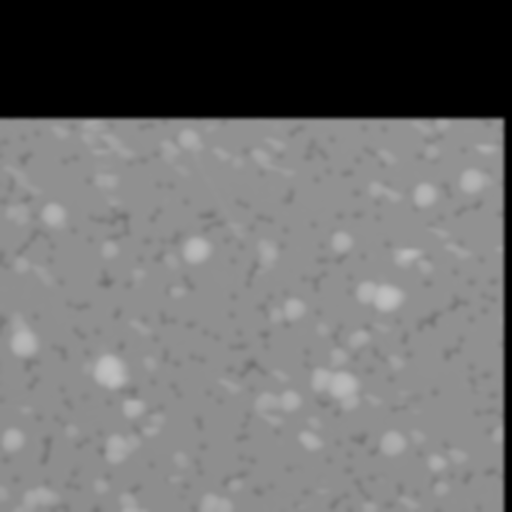Hole: (425, 289, 503, 381), (170, 312, 264, 374), (303, 133, 341, 195), (79, 202, 134, 240), (249, 210, 318, 234), (346, 149, 363, 230), (187, 411, 213, 459), (458, 467, 503, 493), (446, 267, 503, 287), (109, 302, 128, 349), (299, 268, 329, 294), (232, 432, 256, 464), (453, 196, 486, 219), (89, 266, 117, 293), (55, 383, 79, 414), (188, 203, 215, 230), (61, 294, 94, 316), (21, 231, 54, 252), (356, 119, 394, 136), (143, 199, 167, 225), (34, 428, 52, 462), (21, 359, 39, 393), (253, 483, 282, 502), (69, 320, 93, 340), (472, 404, 503, 419), (139, 118, 168, 134), (61, 463, 78, 489), (458, 497, 488, 511), (278, 185, 299, 205), (145, 233, 177, 246), (50, 339, 71, 358), (166, 379, 183, 401), (300, 344, 315, 368), (353, 478, 369, 500), (0, 134, 12, 159), (349, 430, 369, 444), (242, 261, 252, 289), (152, 179, 178, 189), (0, 306, 8, 337), (234, 194, 250, 209), (398, 328, 411, 345), (365, 362, 378, 379), (19, 147, 31, 164), (0, 249, 9, 271), (290, 122, 305, 135), (126, 158, 150, 166), (60, 151, 78, 161), (228, 291, 240, 304), (339, 461, 350, 475), (332, 208, 345, 218), (0, 355, 4, 387), (359, 247, 369, 259), (481, 118, 496, 126), (32, 126, 43, 136), (333, 435, 341, 448), (17, 131, 28, 140), (368, 472, 376, 484), (102, 397, 111, 407), (495, 208, 503, 219), (343, 273, 354, 281), (226, 254, 235, 263), (374, 212, 382, 222), (498, 180, 503, 195), (383, 238, 391, 246), (346, 451, 356, 457), (280, 509, 293, 511)
Particle: (309, 368, 364, 413), (354, 273, 413, 314), (262, 296, 313, 330), (92, 349, 130, 390), (254, 236, 289, 277), (9, 310, 38, 356), (102, 430, 138, 464), (178, 234, 213, 267), (252, 390, 304, 412), (360, 178, 401, 204), (459, 165, 494, 192), (371, 427, 405, 454), (14, 486, 59, 506), (40, 201, 71, 230), (113, 492, 160, 511), (412, 118, 455, 137), (191, 491, 231, 511), (325, 228, 354, 255), (410, 177, 436, 207), (5, 198, 33, 225), (126, 314, 154, 341), (0, 425, 26, 454), (293, 428, 323, 451), (180, 125, 206, 151), (152, 137, 179, 161), (382, 347, 409, 370), (445, 444, 471, 467), (343, 325, 370, 347), (327, 347, 351, 371), (394, 488, 418, 510), (170, 447, 191, 471), (84, 475, 109, 495), (219, 374, 241, 396), (425, 450, 446, 473), (99, 239, 122, 259), (60, 419, 83, 439), (210, 143, 232, 163), (421, 142, 440, 163), (487, 420, 503, 444), (410, 427, 430, 446), (378, 145, 397, 165), (13, 252, 30, 274), (161, 252, 180, 271), (226, 476, 246, 494), (359, 390, 381, 406), (271, 363, 290, 380), (49, 124, 69, 139), (430, 480, 447, 496), (369, 320, 391, 332), (0, 478, 11, 502), (142, 352, 157, 369), (79, 358, 91, 377), (313, 320, 328, 335), (305, 413, 320, 427), (229, 156, 244, 166), (46, 507, 80, 511), (11, 506, 26, 511)
Smear: (76, 121, 135, 159), (0, 163, 41, 196), (254, 149, 298, 179), (389, 243, 425, 271), (395, 384, 425, 416), (89, 168, 123, 192), (88, 144, 116, 171), (442, 237, 476, 259), (469, 138, 503, 159), (30, 263, 59, 287), (117, 396, 146, 418), (222, 215, 246, 239), (125, 264, 146, 290), (263, 131, 288, 151), (252, 412, 283, 428), (138, 422, 165, 439), (425, 223, 452, 239), (145, 409, 167, 426), (101, 194, 125, 205), (13, 403, 33, 416), (166, 472, 189, 483), (313, 484, 333, 496), (167, 285, 187, 297), (171, 164, 188, 176), (291, 501, 310, 509), (471, 381, 485, 391), (362, 502, 375, 511)
